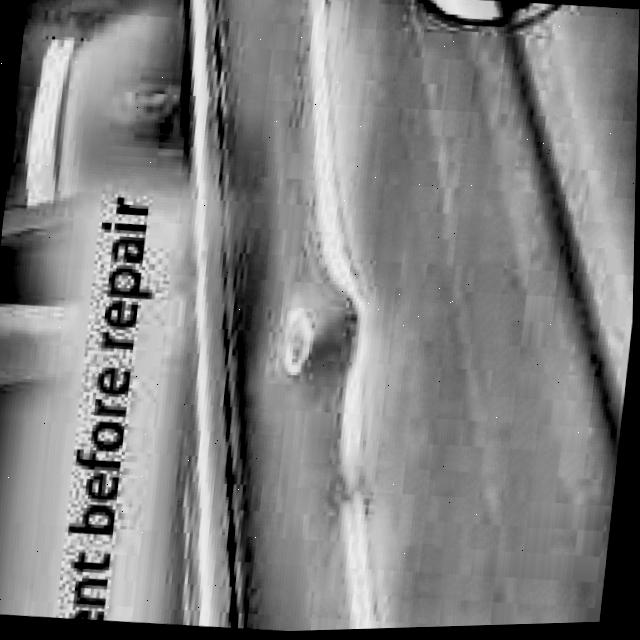door_dent: (269, 271, 402, 406)
